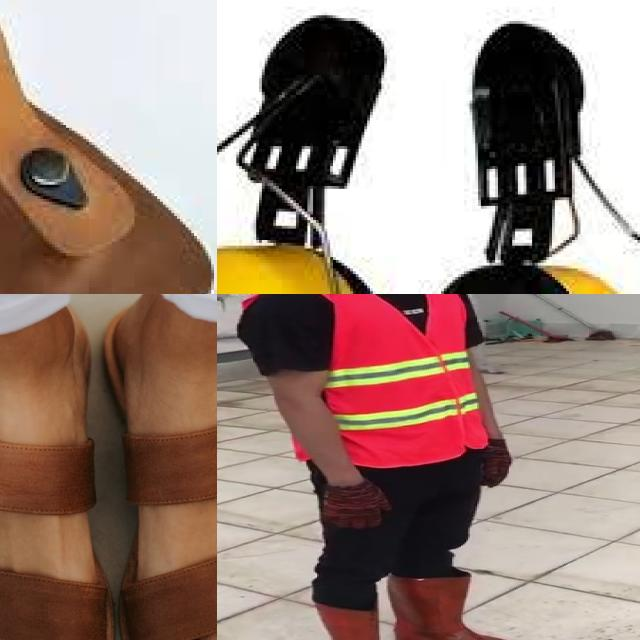Ear-protection: (217, 3, 640, 294)
Sandals: (0, 0, 217, 294), (97, 294, 217, 640), (0, 302, 118, 640)
boots: (386, 575, 528, 640), (310, 600, 436, 640)
hand_glove: (321, 484, 395, 533), (484, 438, 514, 491)
person: (217, 294, 574, 640)
vest: (241, 294, 487, 467)
